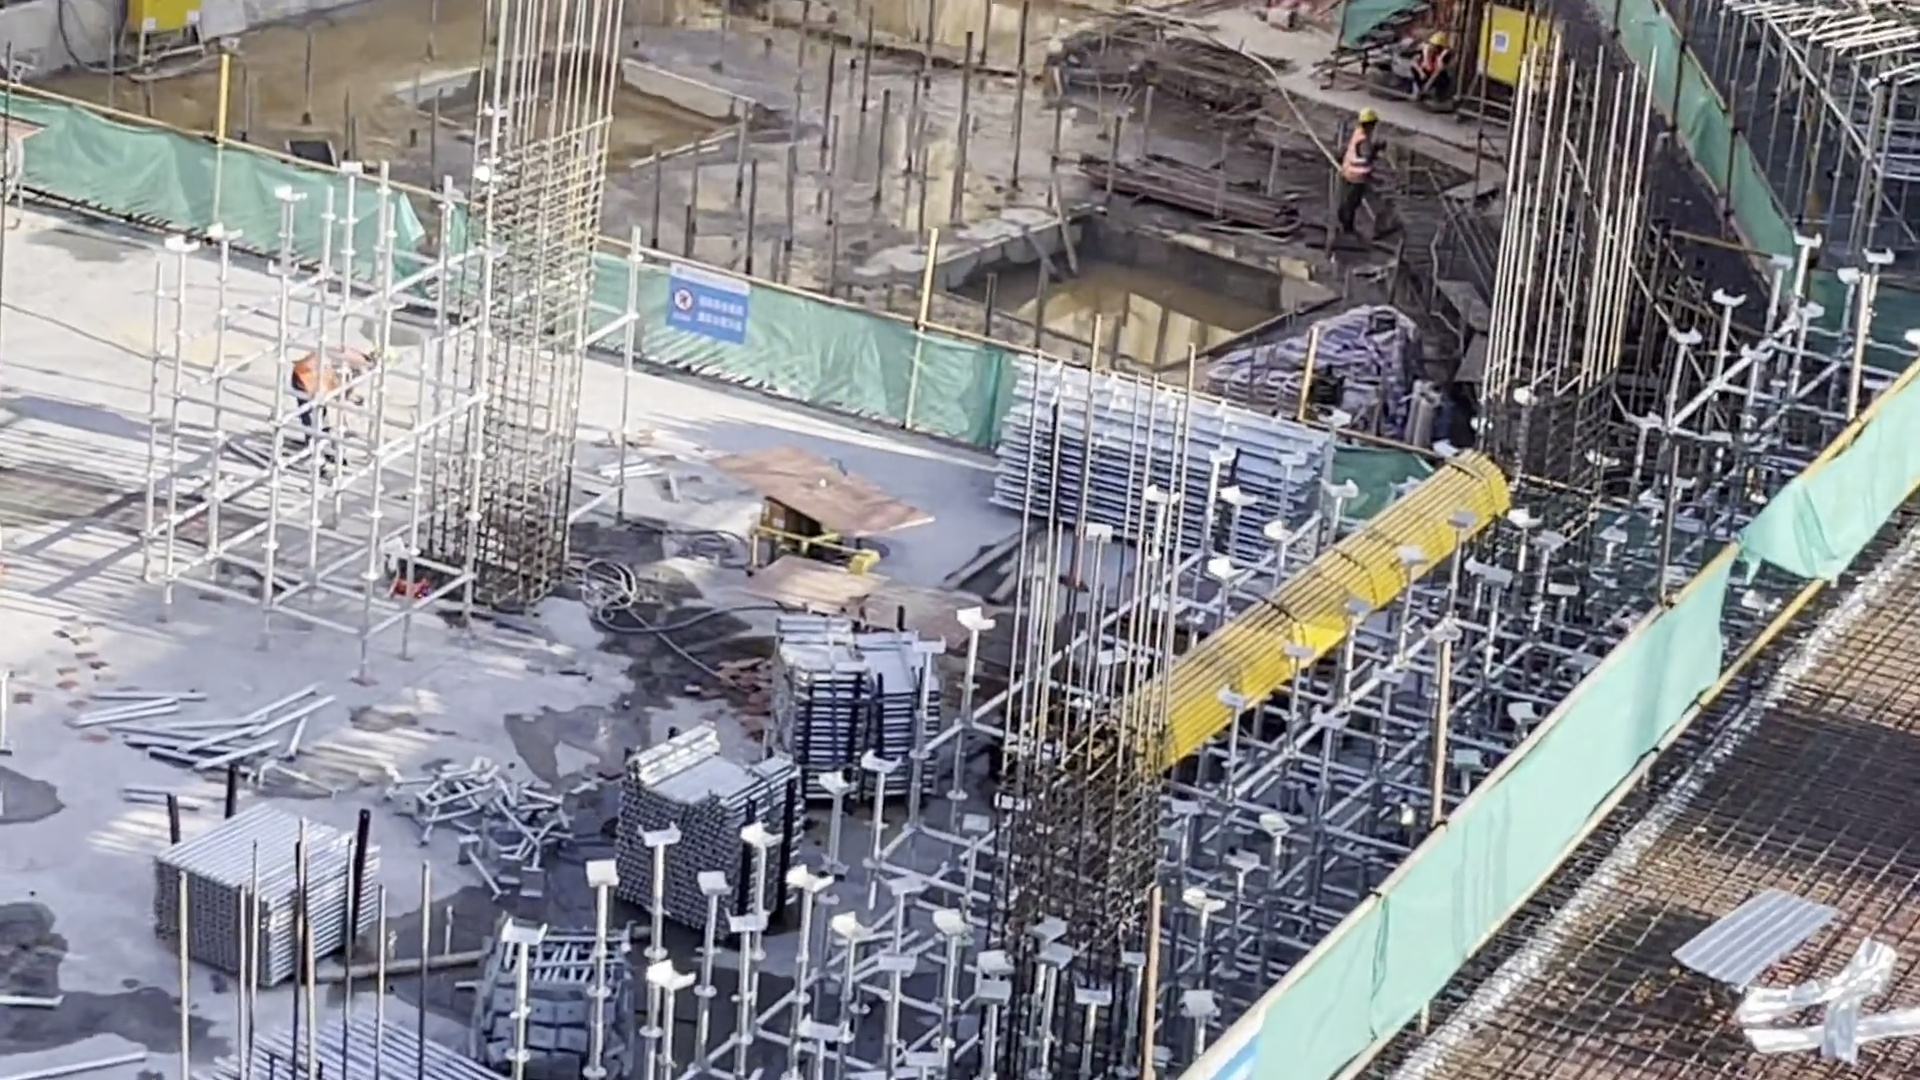cutter: (778, 560, 973, 654), (742, 455, 886, 579)
ebox: (1475, 7, 1548, 95), (115, 1, 213, 65)
helmet: (355, 344, 379, 365), (1428, 33, 1450, 47), (1359, 109, 1381, 124)
person: (274, 348, 381, 467), (1337, 104, 1381, 247), (1400, 30, 1455, 112)
scaffold: (1020, 407, 1313, 555), (777, 616, 940, 810), (617, 757, 794, 931), (166, 806, 350, 958), (237, 1024, 503, 1080)
slogan: (666, 273, 746, 334)
vest: (299, 355, 355, 399), (1343, 132, 1372, 179), (1423, 48, 1450, 75)
